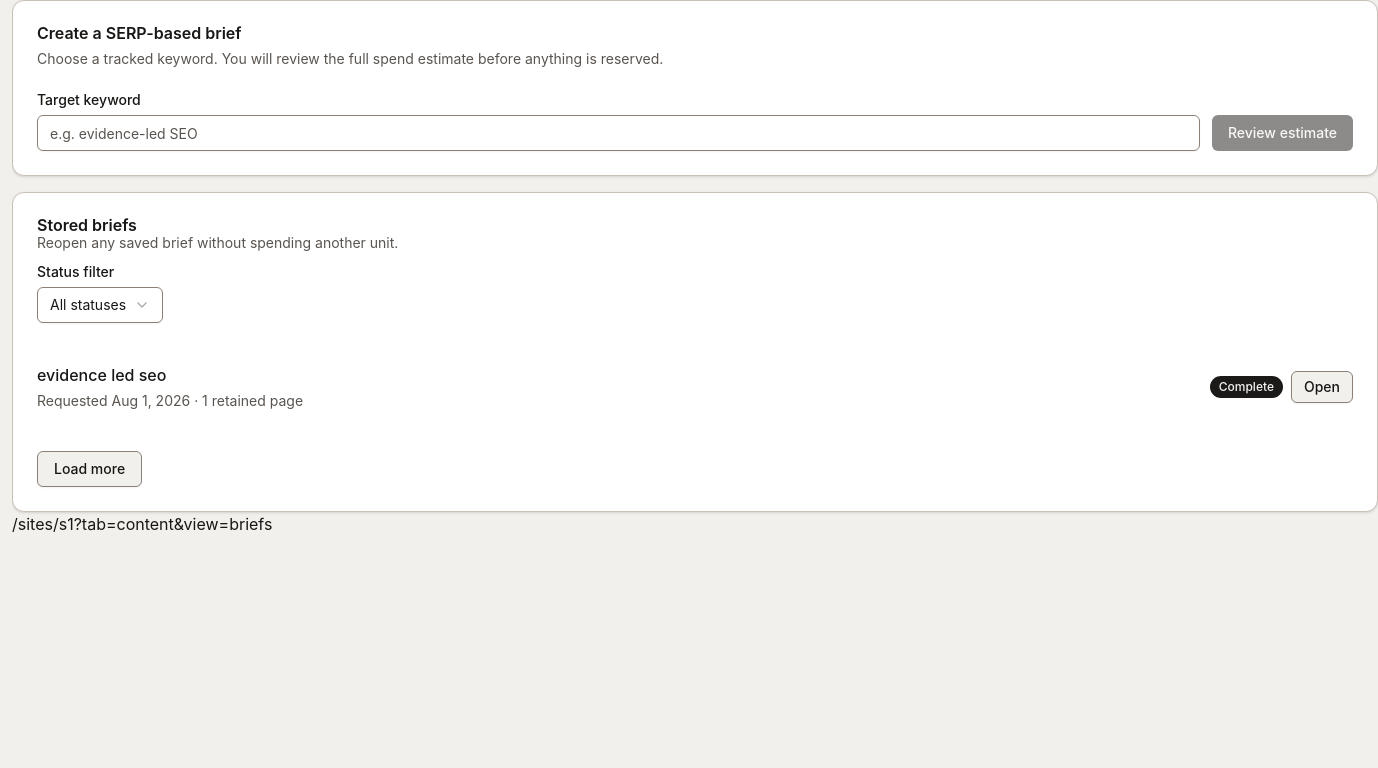
it: content briefs list and request flow › shows a retryable pagination failure and ignores an aborted list request
Expected: the list item with test id "content-brief-row-brief-1" is shown, [37,365,1353,409]
Click the button "Load more".
click(90, 469)  # box [37,451,142,487]
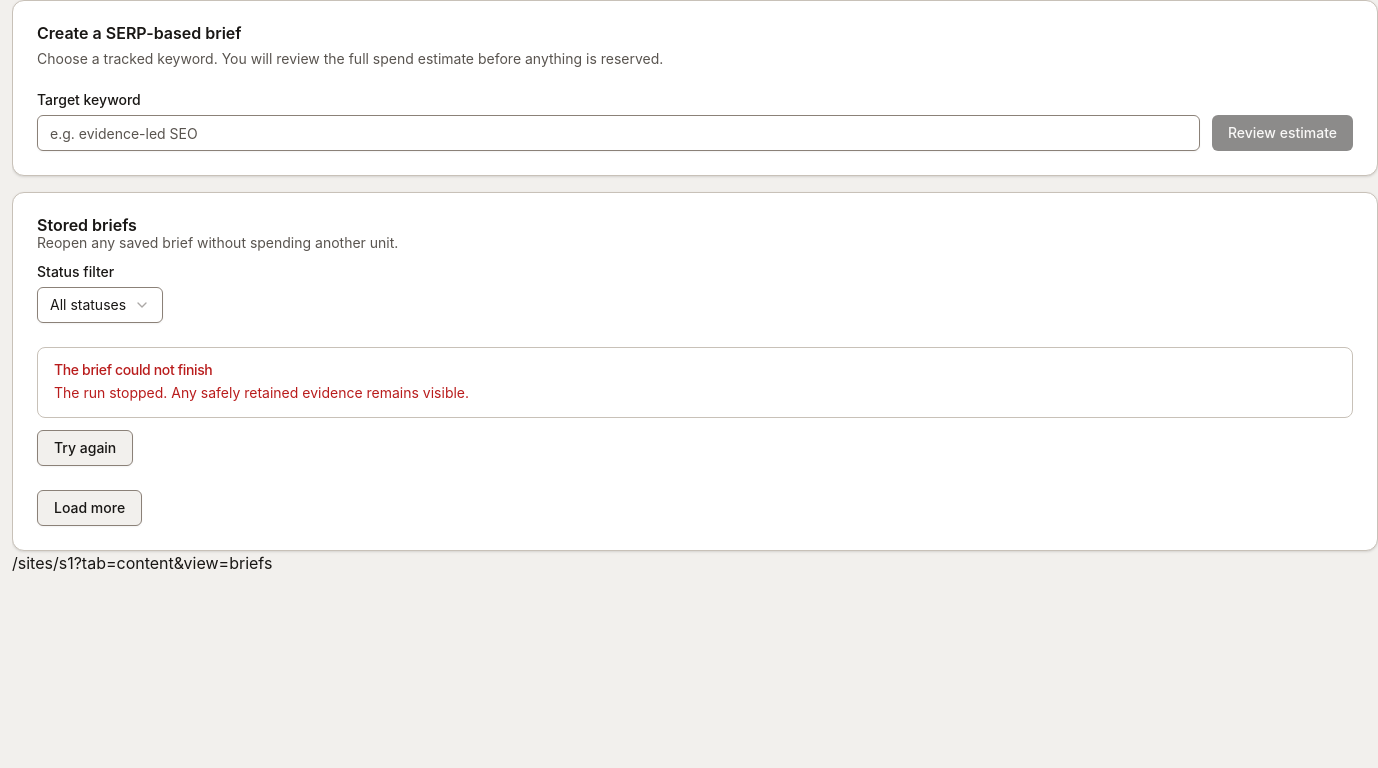
Result: the message with test id "brief-state-failed" is shown at [37,347,1353,418]
